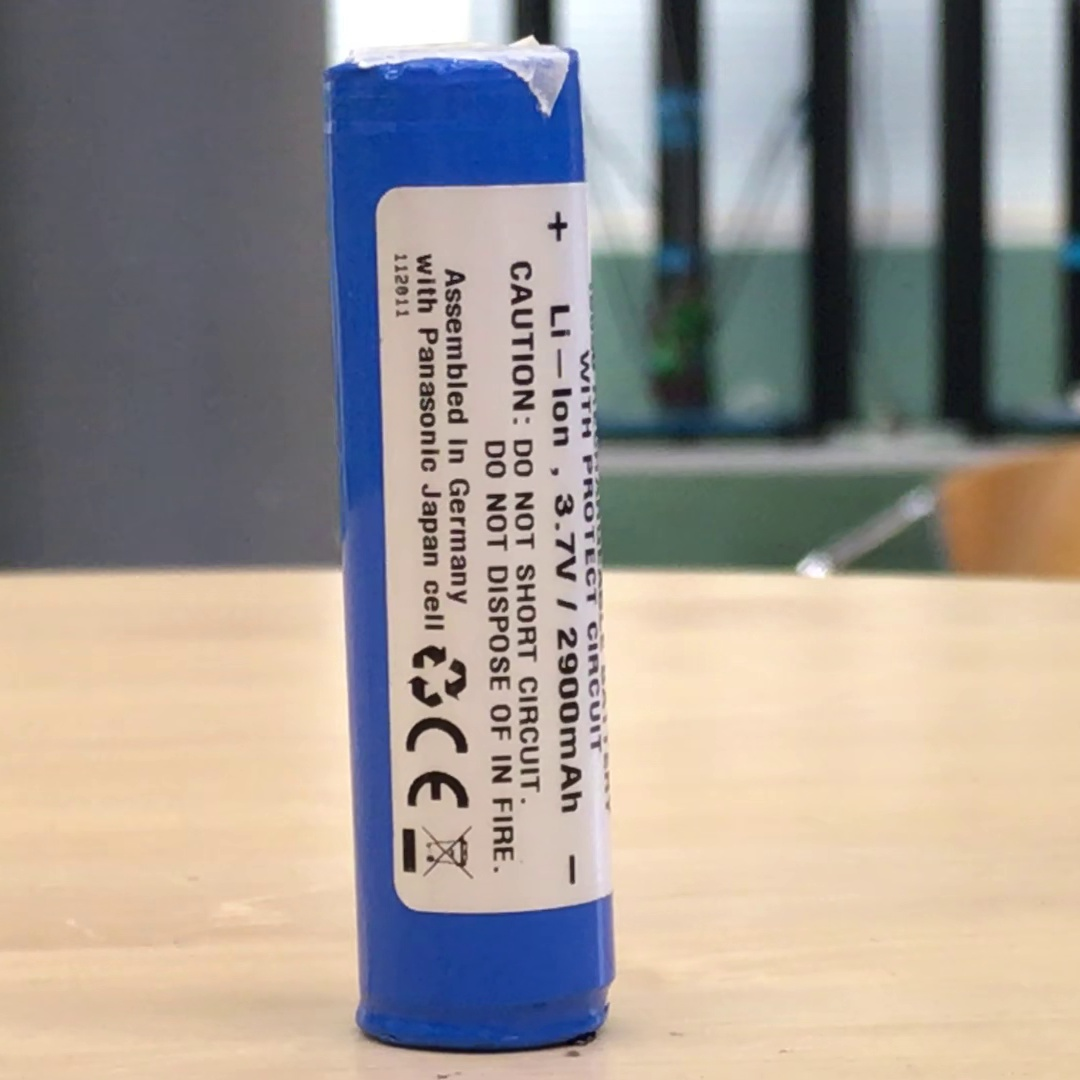keyword: (545, 484, 586, 587)
